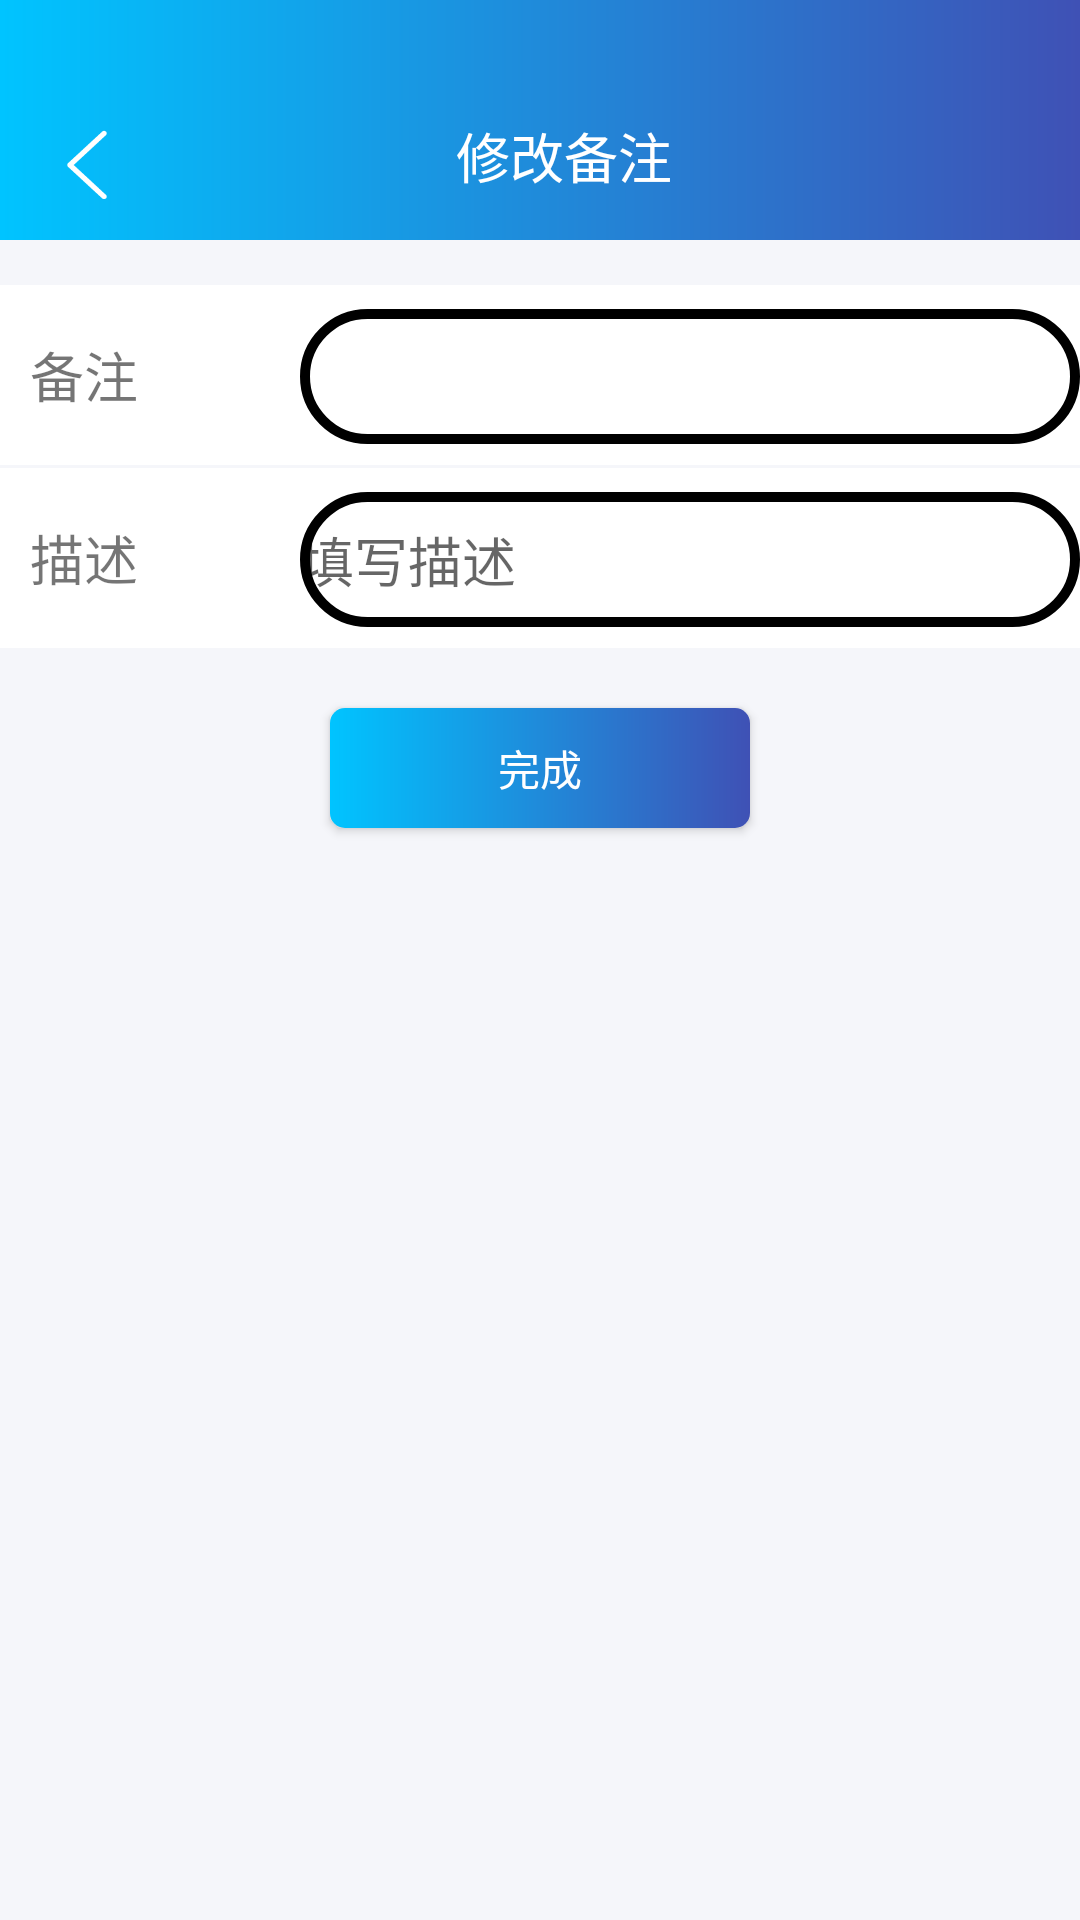

Point at icon controls on the screen. Image size 1080px×1920px, points as [x,y].
back: [87,164]
